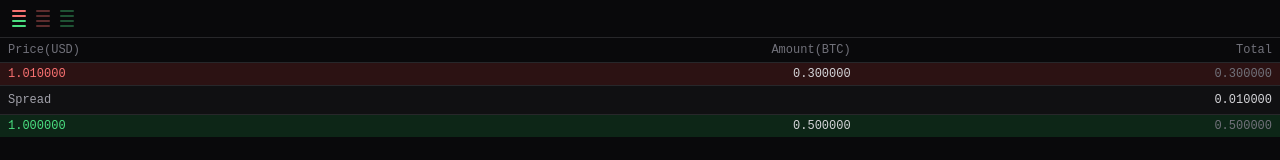
Test: OrderBook › switching back to both view restores bids, asks, and spread row
Click the button named "Show asks": (43, 18) [32, 6, 54, 31]
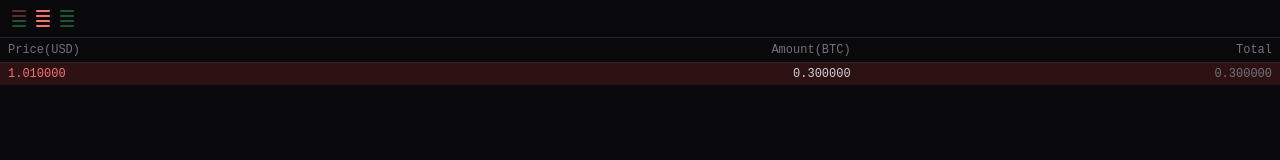
Click the button named "Show both": (19, 18) [8, 6, 30, 31]
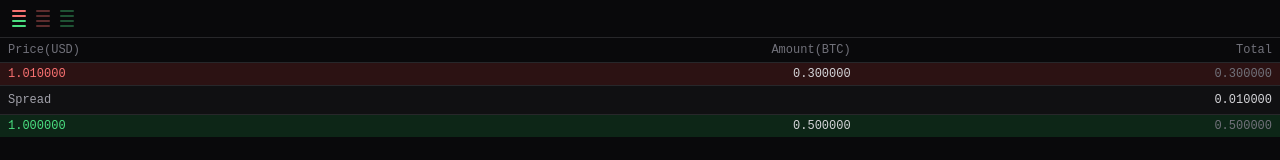
expect the text "1.010000" is shown: met, box [8, 67, 66, 81]
expect the text "Spread" is shown: met, box [8, 92, 51, 108]
expect the text "1.000000" is shown: met, box [8, 119, 66, 133]
